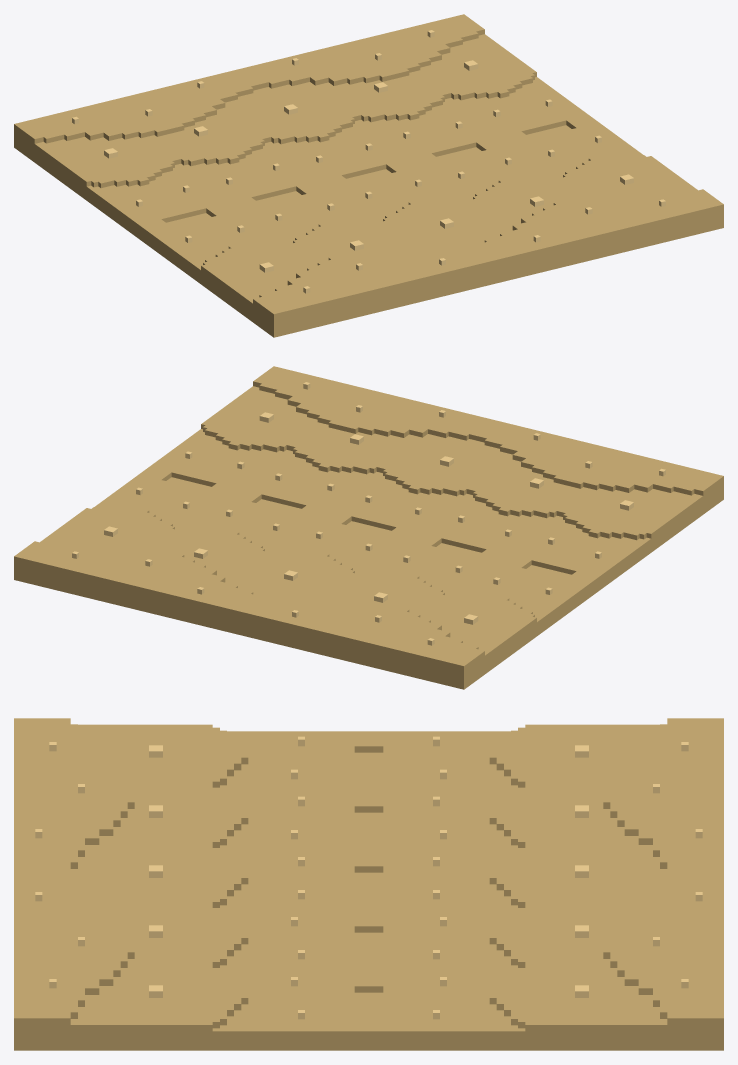
File: Background_C_road_01.FBX
3 renders of one model, top to bottom at view 1: azimuth 30°, elevation 25°; view 2: azimuth 150°, elevation 25°; view 3: azimuth 270°, elevation 25°, orthographic. The views are drawn at different scales.
Visible parts, largest first — view 1: Background_C-25; view 2: Background_C-25; view 3: Background_C-25.
Part boxes in pixels (x1,y1,x2,y2): Background_C-25: [14, 14, 723, 337]; Background_C-25: [14, 366, 723, 689]; Background_C-25: [14, 718, 723, 1050].
Size of the model in its own units: 10 by 0.6 by 10.
Materials: 1 (1 with a texture image).
